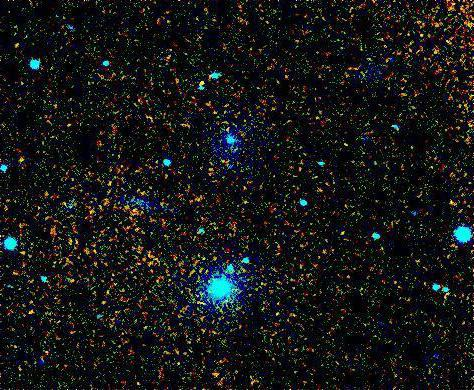star: (185, 71, 215, 101)
